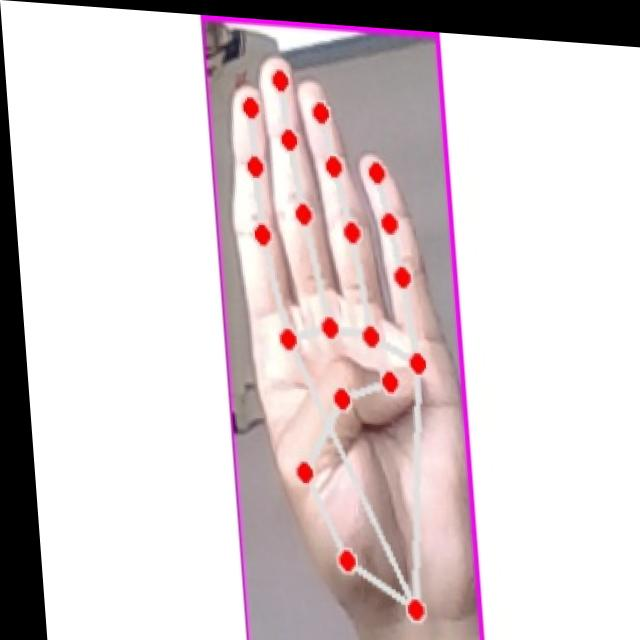B: (216, 46, 463, 631)
